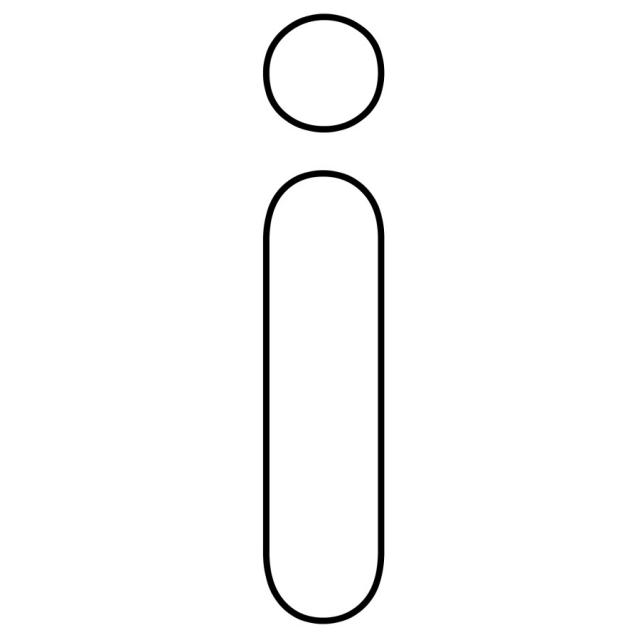I: (249, 144, 424, 640)
